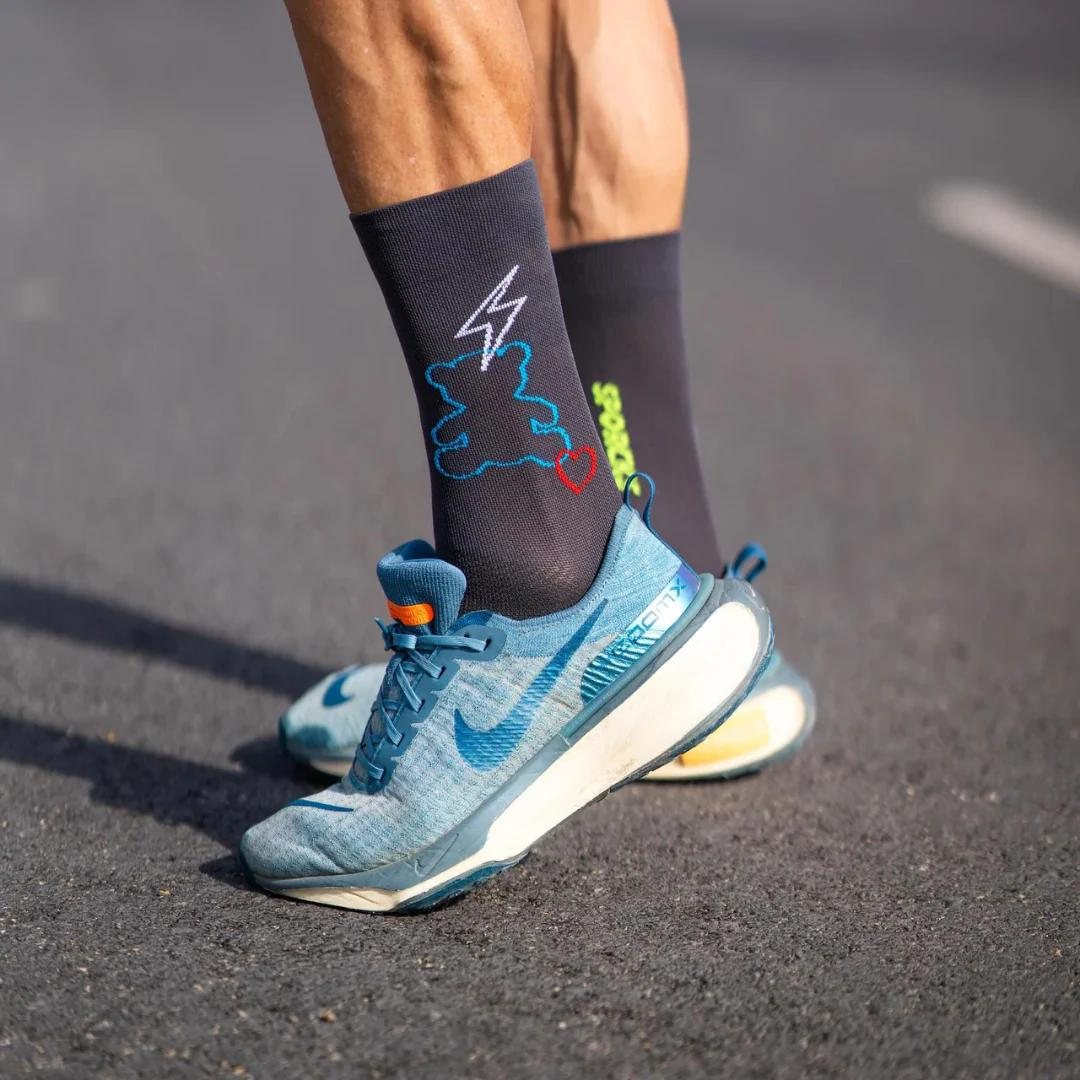nike logo: (427, 587, 636, 788)
sock logo: (361, 219, 609, 583), (555, 236, 733, 576)
